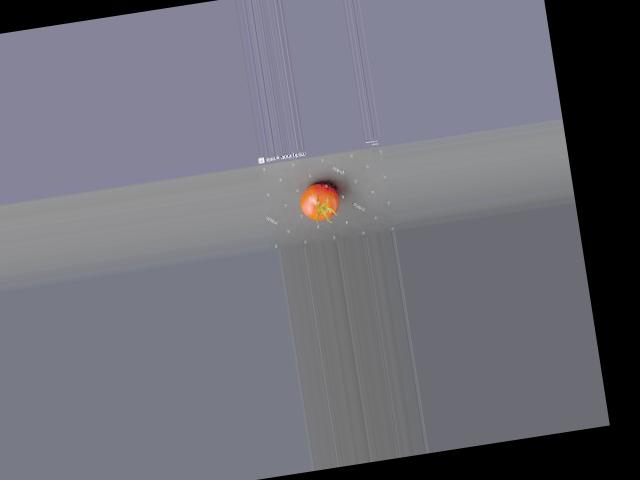tomato: (298, 182, 342, 222)
